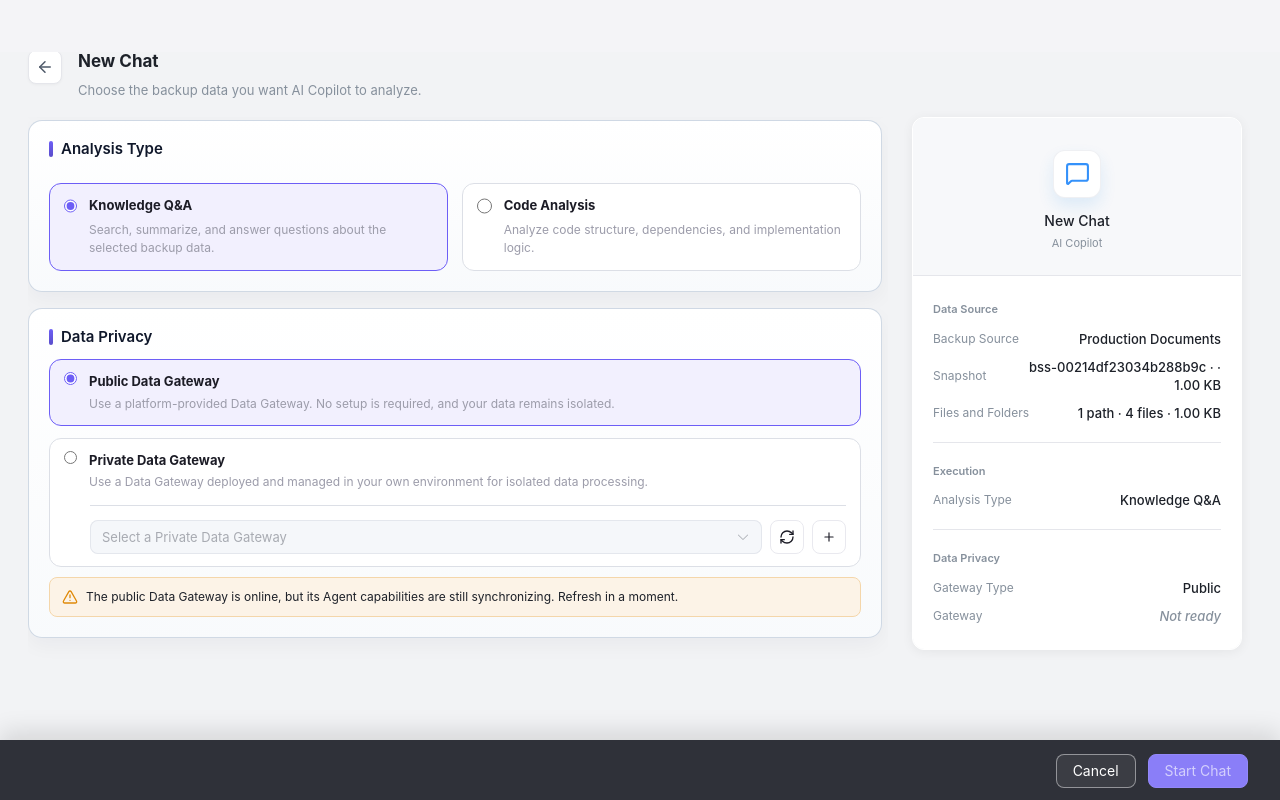
Scenario: New Chat Public Data Gateway warning › shows capability synchronization rather than reporting an online Gateway as absent
The width and height of the screenshot is (1280, 800).
(page scrolled)
Expected: the message with class "new-chat-gateway-warning" shows "The public Data Gateway is online, but its Agent capabilities are still synchronizing. Refresh in a moment.", [86, 589, 678, 604]
Click the 4th radio button: [70, 457] box [64, 450, 77, 464]
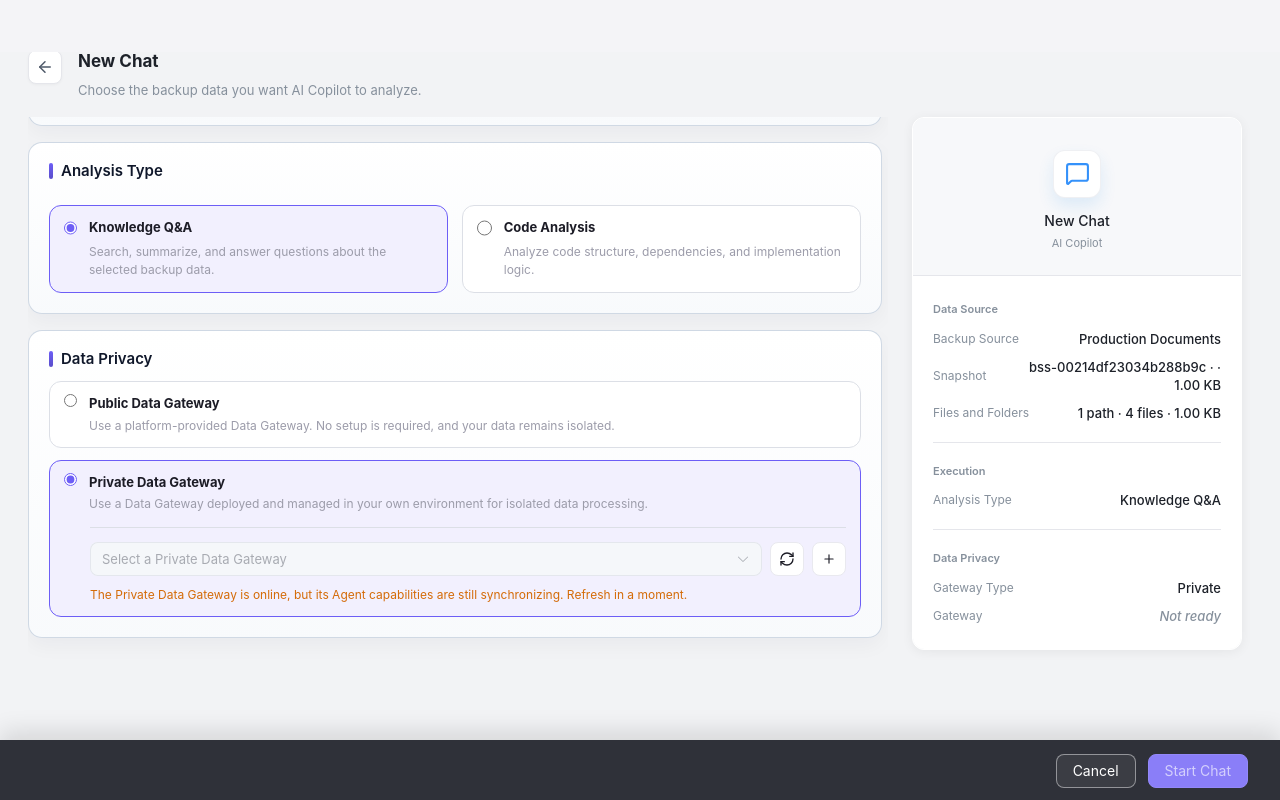
Expected: the button "Start Chat" is disabled, [1148, 754, 1248, 788]
Now the text with class "new-chat-hint" shows "The Private Data Gateway is online, but its Agent capabilities are still synchronizing. Refresh in a moment.", box [90, 587, 687, 602]
